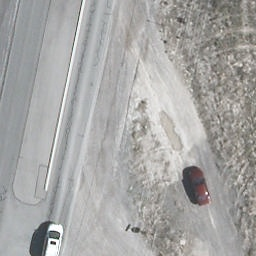car: (184, 166, 215, 206)
